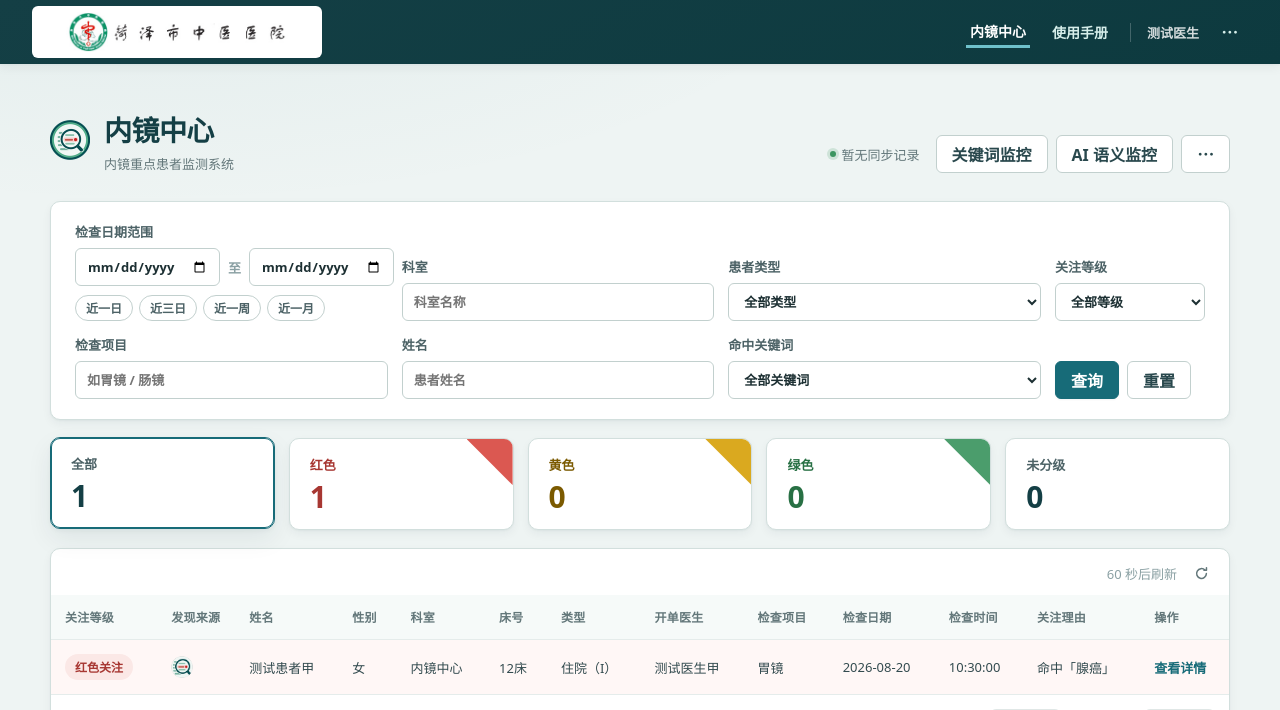
Test case: App › opens notification configuration with a read-only list for a viewer
The width and height of the screenshot is (1280, 710).
expect the text "测试患者甲" is shown: met, box [235, 640, 338, 694]
Click the button named "更多配置". click: (1206, 154)
box: [1181, 135, 1230, 173]
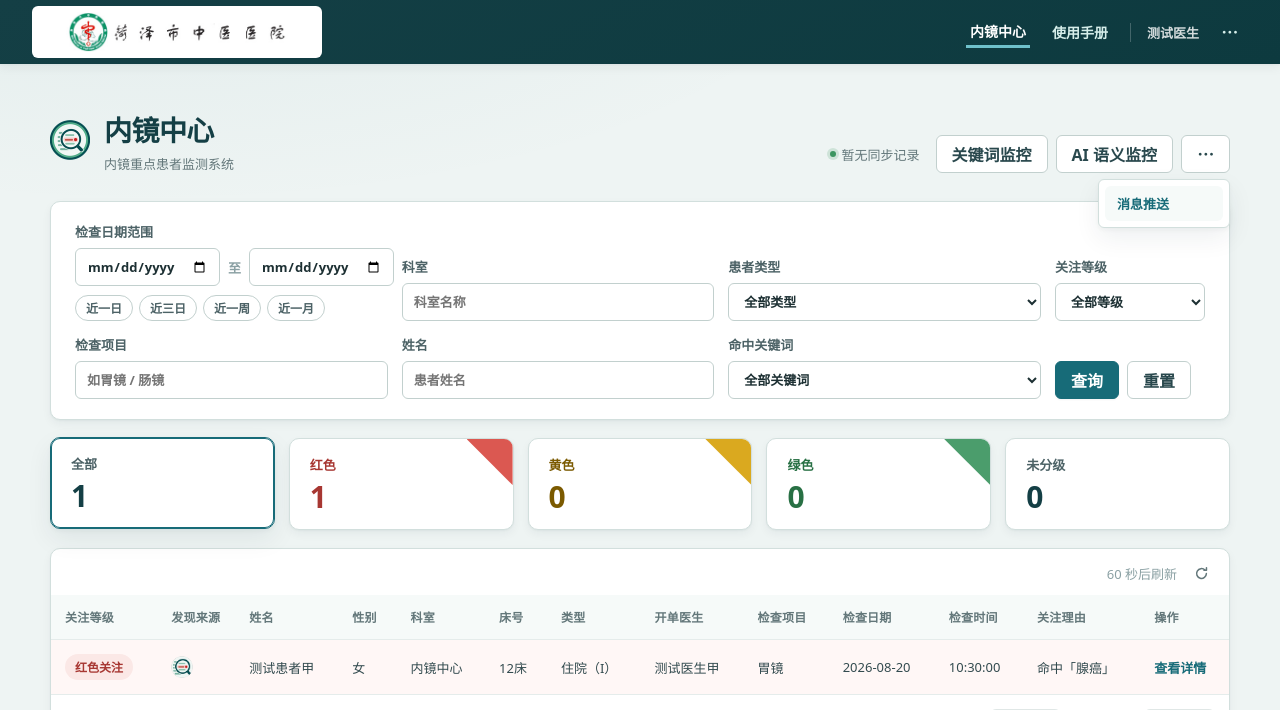
Click the menu item "消息推送". click: (1164, 204)
box: [1105, 186, 1223, 221]
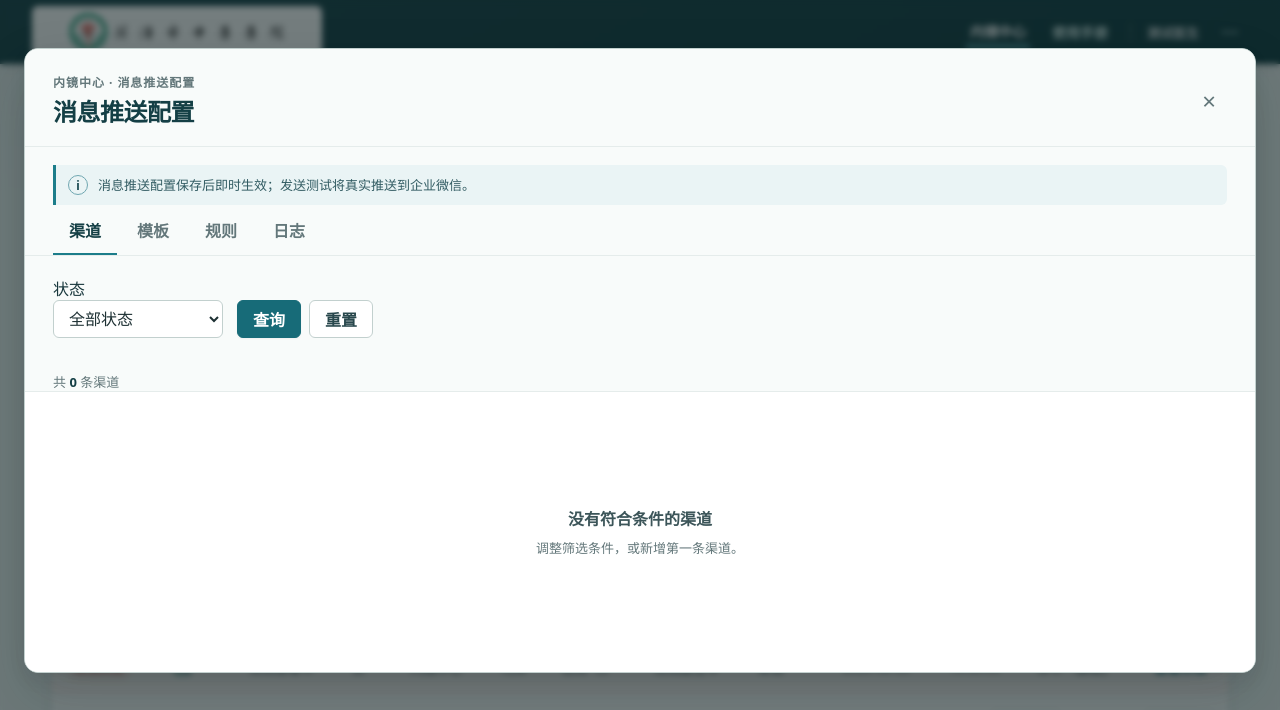
expect the heading "内镜中心" is shown: met, box [104, 111, 214, 149]
expect the dialog "消息推送配置" is shown: met
expect the text "没有符合条件的渠道" is shown: met, box [568, 506, 712, 530]
